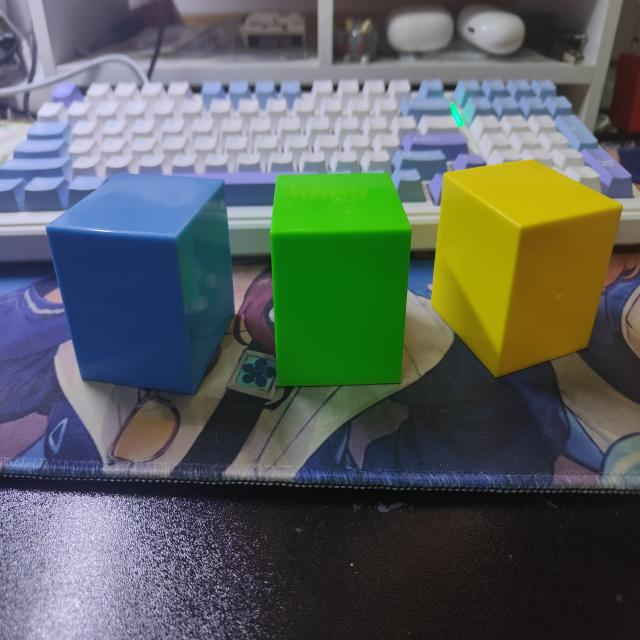blue: (44, 175, 235, 398)
green: (269, 172, 412, 390)
yellow: (430, 160, 622, 380)
